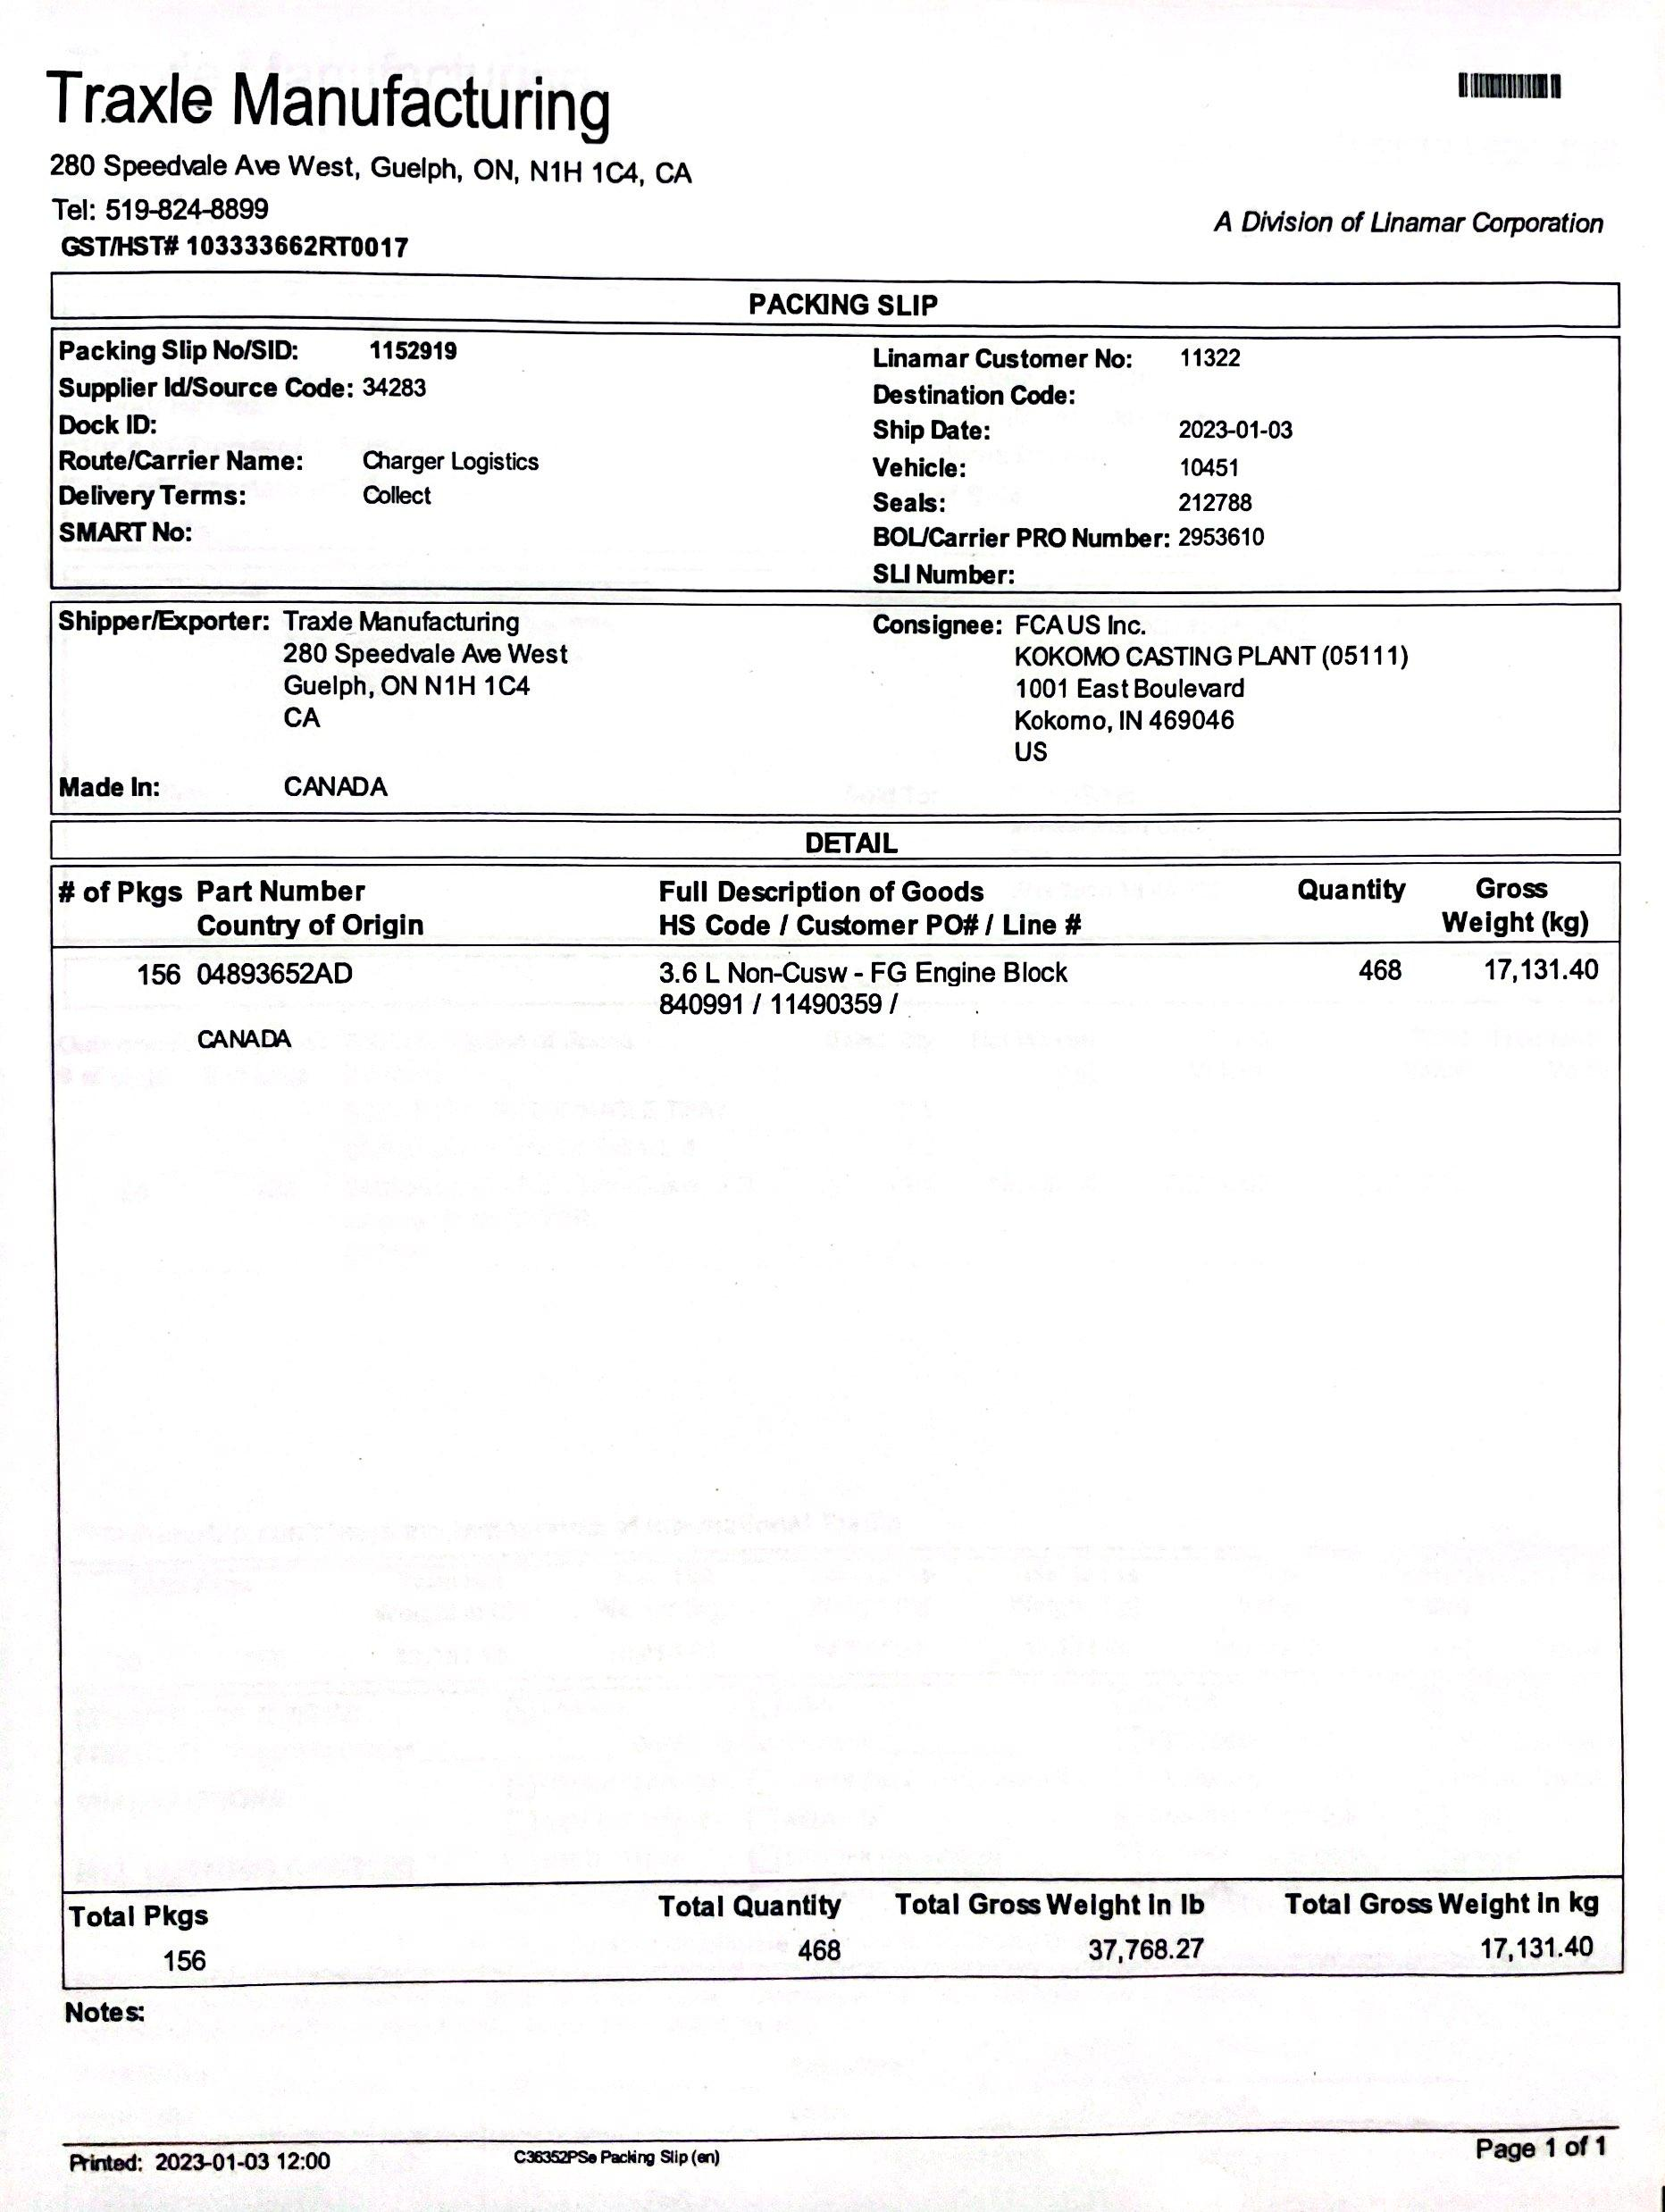B_Paragraph: (869, 341, 1301, 593), (58, 336, 544, 547), (873, 610, 1413, 764), (58, 607, 574, 740), (45, 149, 701, 191), (56, 198, 411, 262), (1210, 203, 1606, 243), (54, 764, 395, 804), (51, 2147, 345, 2189), (523, 2139, 729, 2179), (1466, 2130, 1611, 2168), (58, 1992, 150, 2025)
B_SubTitle: (742, 276, 941, 325), (796, 825, 913, 859)
B_Table: (51, 874, 1628, 1983)
B_Title: (45, 54, 623, 149)
